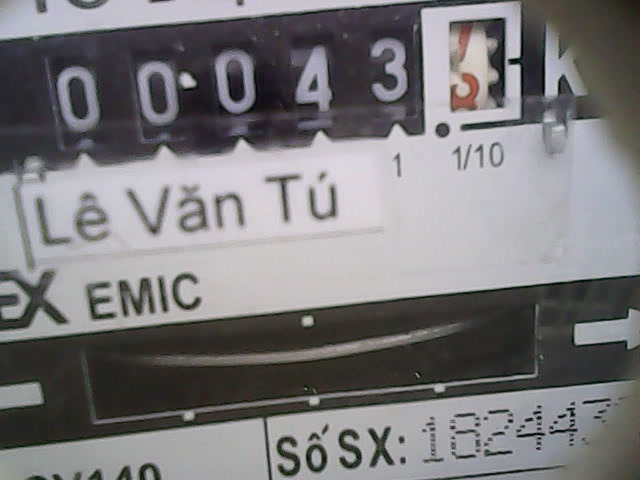phy_plate: (28, 1, 530, 155)
